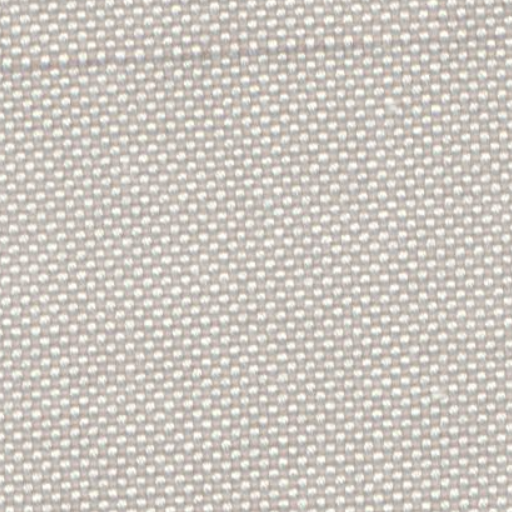TuoSha: (16, 16, 492, 84)
